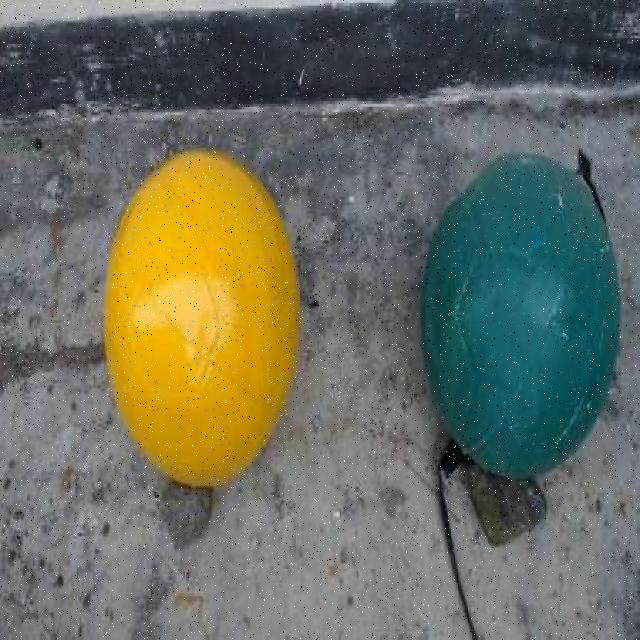buoy: (102, 147, 300, 487), (419, 150, 621, 479)
